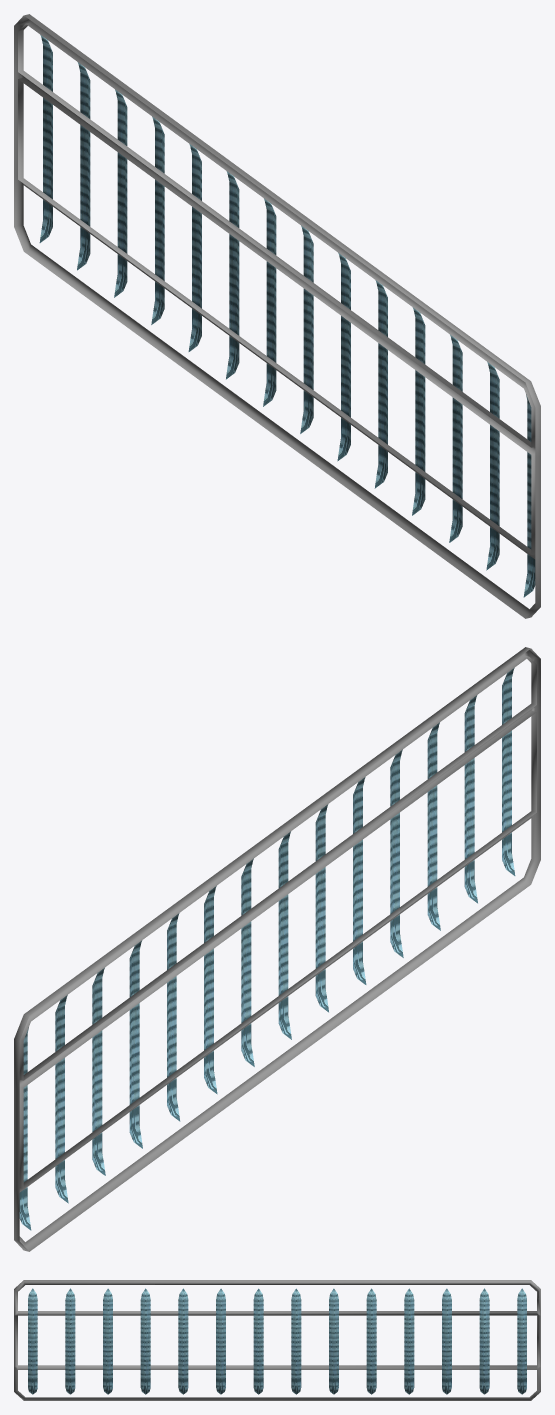
The model's file is Neon_Panel_01.FBX.
The picture shows the model from 3 angles, top to bottom: view 1: azimuth 30°, elevation 25°; view 2: azimuth 150°, elevation 25°; view 3: azimuth 270°, elevation 25°; orthographic projection. The views are drawn at different scales.
Visible parts, largest first — view 1: Neon_Panel_01; view 2: Neon_Panel_01; view 3: Neon_Panel_01.
Boxes of the visible parts, box(x1,y1,x2,y2) form: Neon_Panel_01: box(14, 14, 540, 618); Neon_Panel_01: box(14, 647, 540, 1251); Neon_Panel_01: box(14, 1280, 540, 1400).
Bounding box in the file's own units: 0.0784 × 1 × 4.
